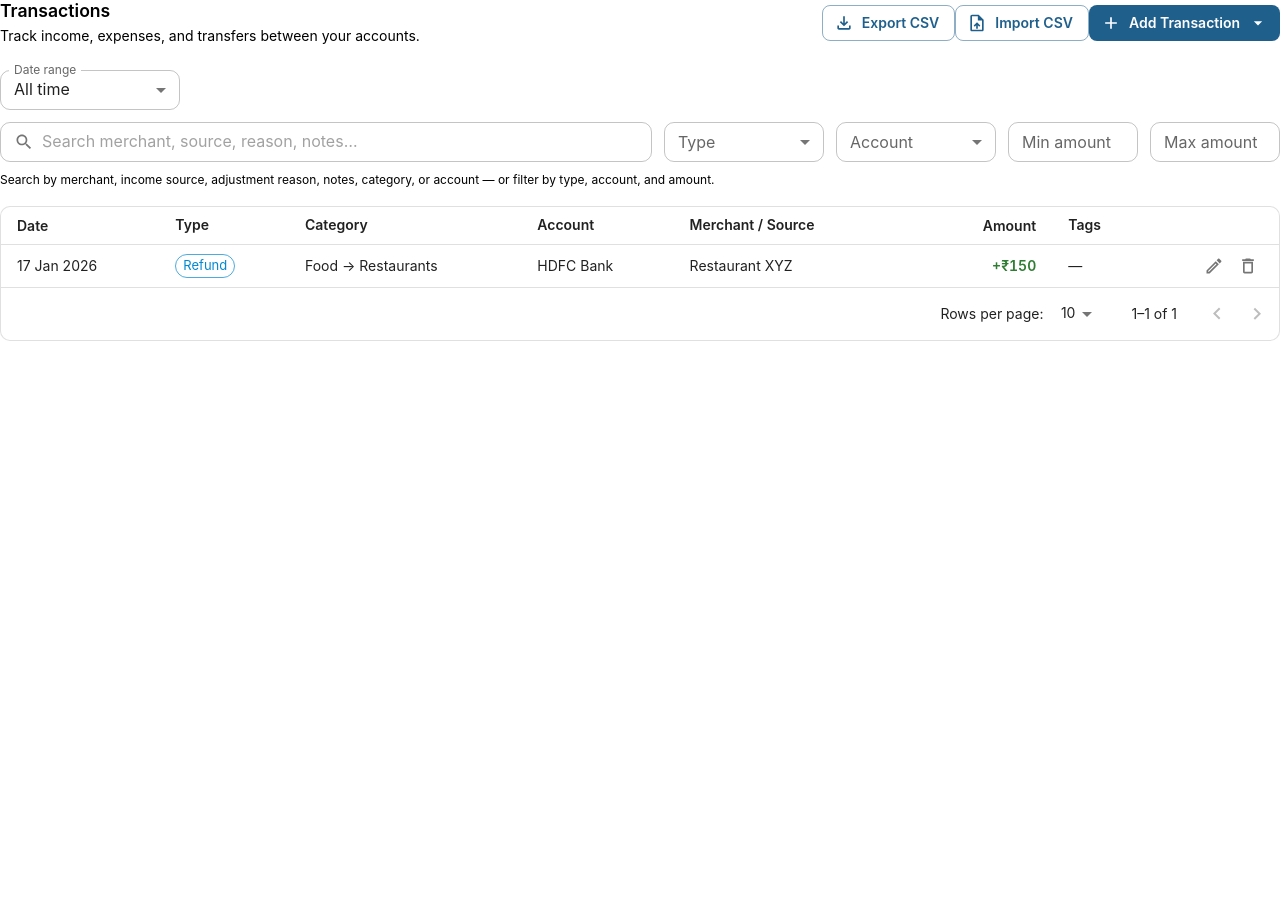
TransactionsPage › opens the refund dialog pre-filled when editing a refund row
The image size is (1280, 900).
What coordinates should you click on to do the following:
click the button named "Edit transaction"
I would click on:
 (1214, 266)
Its box is left=1199, top=251, right=1229, bottom=281.
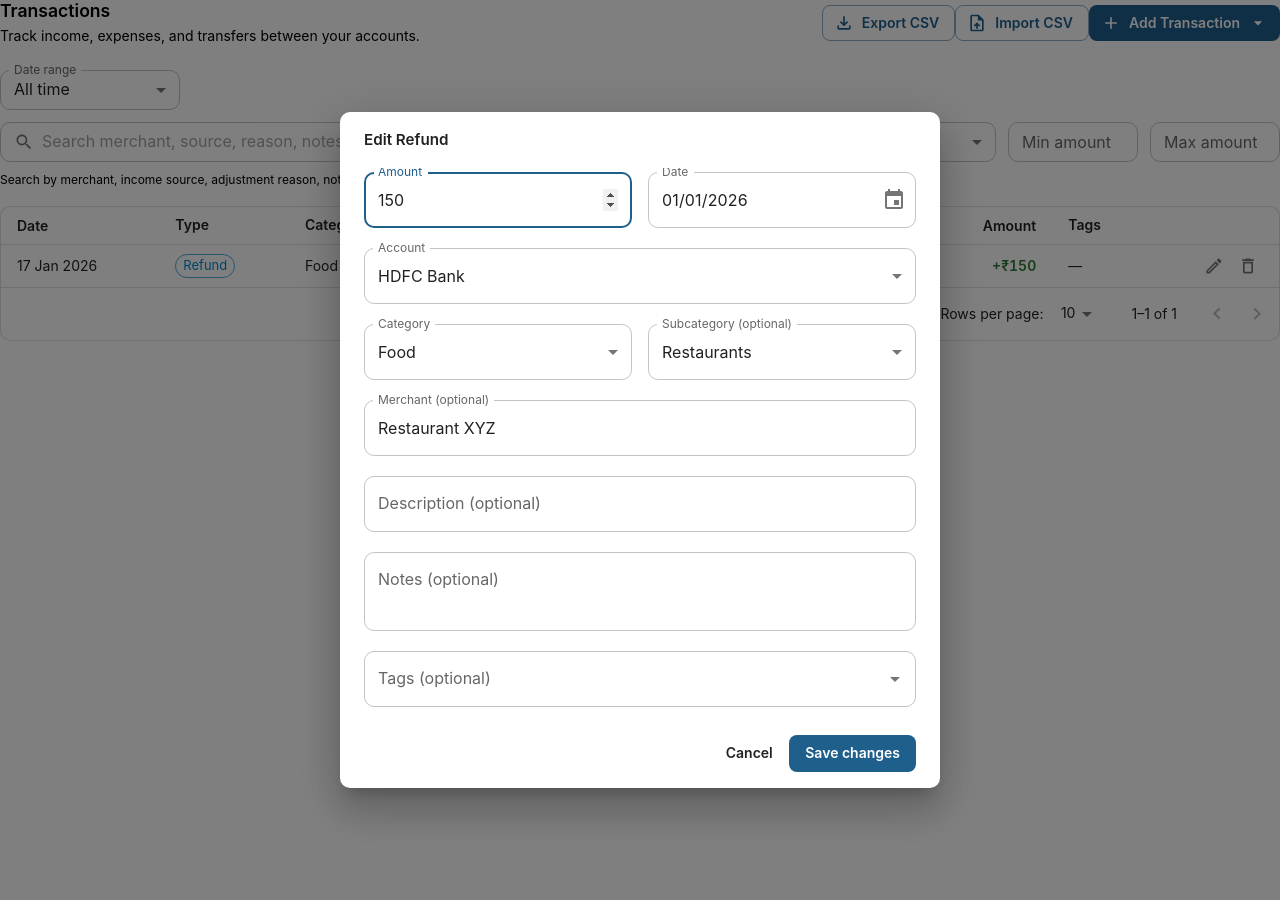
Check: the heading "Edit Refund" is shown, box left=364, top=130, right=448, bottom=149
Check: the number field showing "150" is shown, box left=364, top=172, right=632, bottom=228
Check: the field showing "Restaurant XYZ" is shown, box left=364, top=400, right=916, bottom=456
